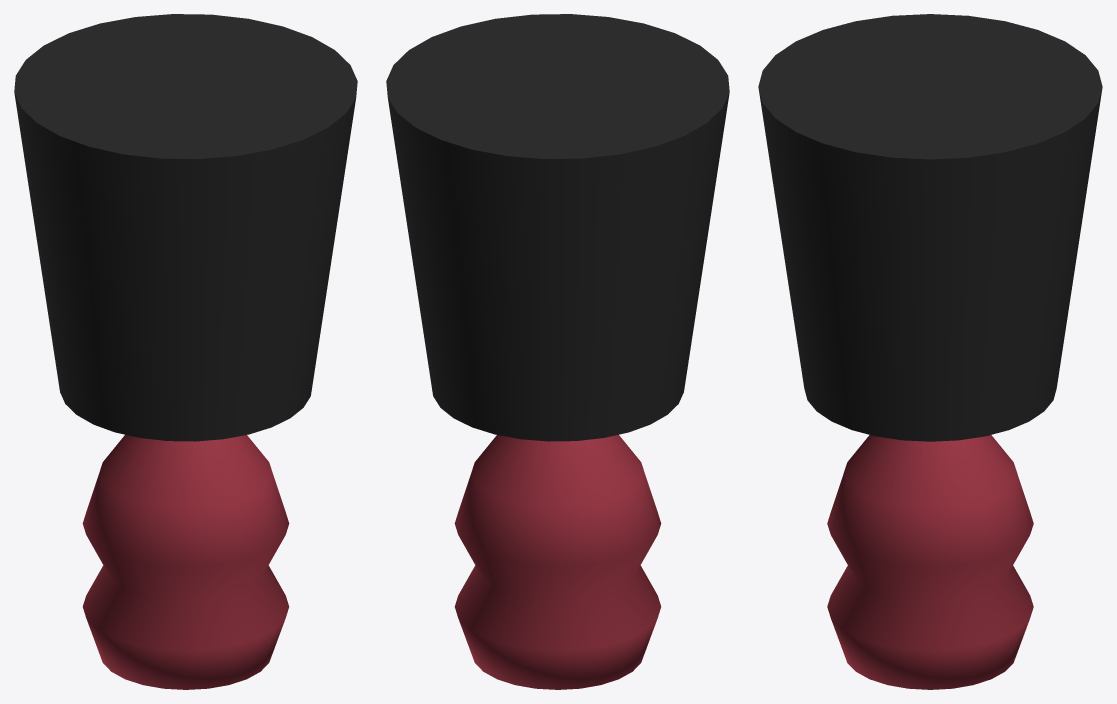
Rendered from SM_Lamp_Ruby.fbx.
3 renders of one model, left to right at view 1: azimuth 30°, elevation 25°; view 2: azimuth 150°, elevation 25°; view 3: azimuth 270°, elevation 25°, orthographic.
Parts seen in each view (by area): view 1: SM_Lamp_Ruby; view 2: SM_Lamp_Ruby; view 3: SM_Lamp_Ruby.
Part boxes in pixels (box(x1,y1,x2,y2)): SM_Lamp_Ruby: box(14, 14, 357, 689); SM_Lamp_Ruby: box(386, 14, 729, 689); SM_Lamp_Ruby: box(758, 14, 1102, 689).
Bounding box in the file's own units: 30 × 56 × 30.
